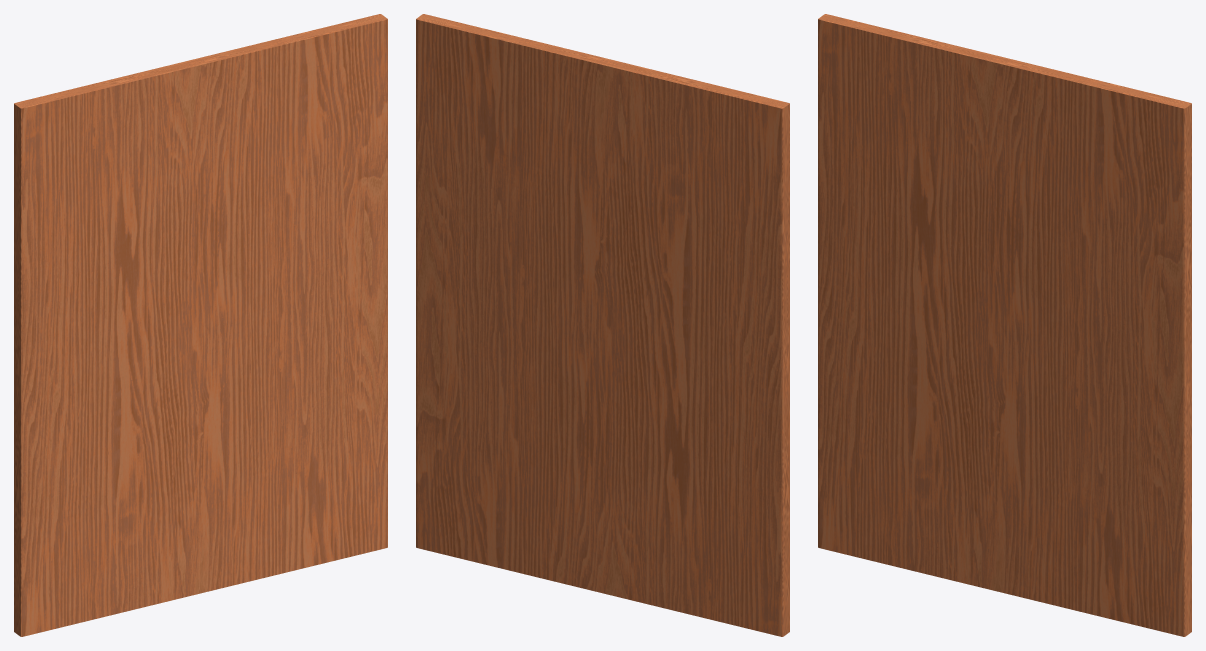
The model's file is table-small.glb.
3 views of the same model, side by side, from view 1: azimuth 30°, elevation 25°; view 2: azimuth 150°, elevation 25°; view 3: azimuth 330°, elevation 25° (orthographic).
Parts seen in each view (by area): view 1: tabletop.026; view 2: tabletop.026; view 3: tabletop.026.
Boxes of the visible parts, x1,y1,x2,y2 form: tabletop.026: (14,14,387,636); tabletop.026: (416,14,789,636); tabletop.026: (818,14,1191,636).
Bounding box in the file's own units: 0.6909 × 0.95 × 0.025.
1 material, 1 textured.
